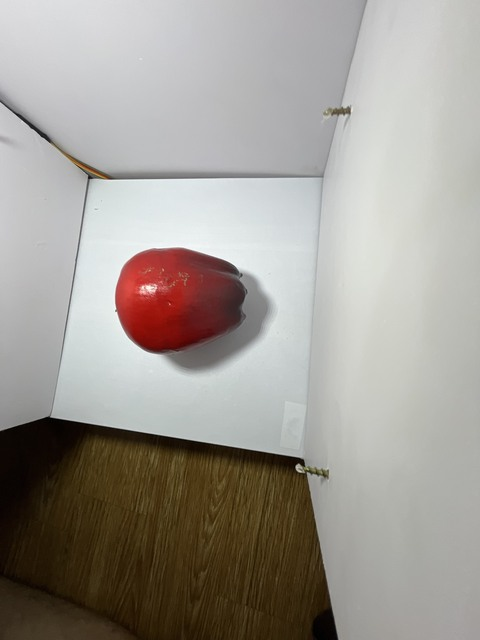Tao: (110, 245, 249, 359)
